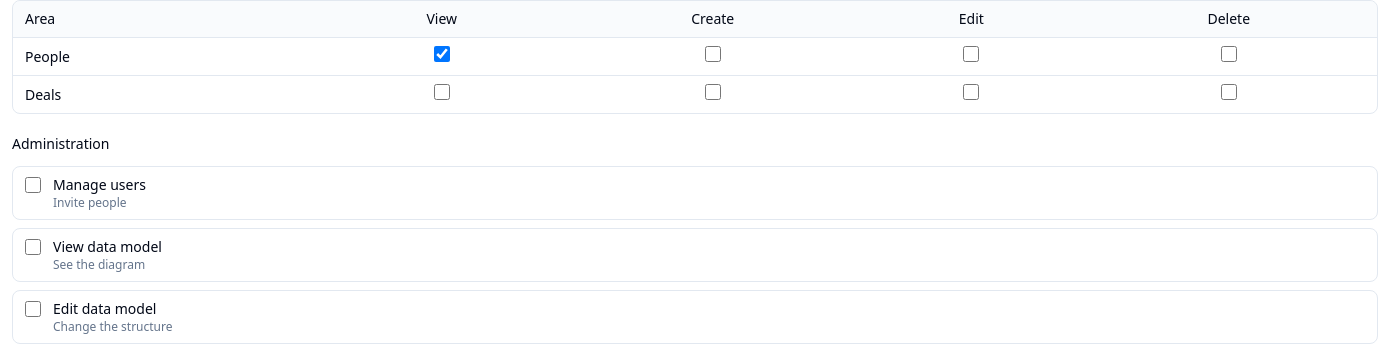
Test case: PermissionMatrix › lets view be turned off again once nothing else needs it
Click the checkbox named "People: View". click: (442, 54)
box: [434,46,450,62]
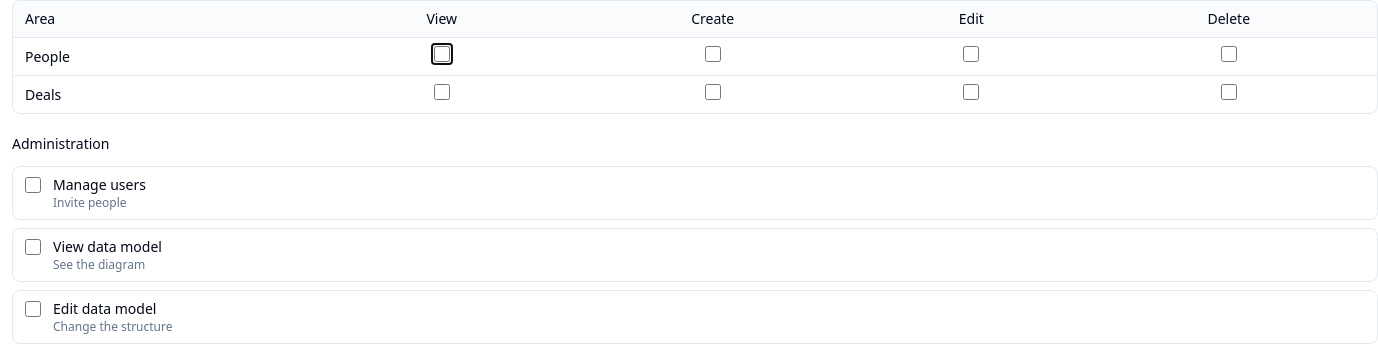
Expected: the checkbox named "People: View" is not checked, [434,46,450,62]
